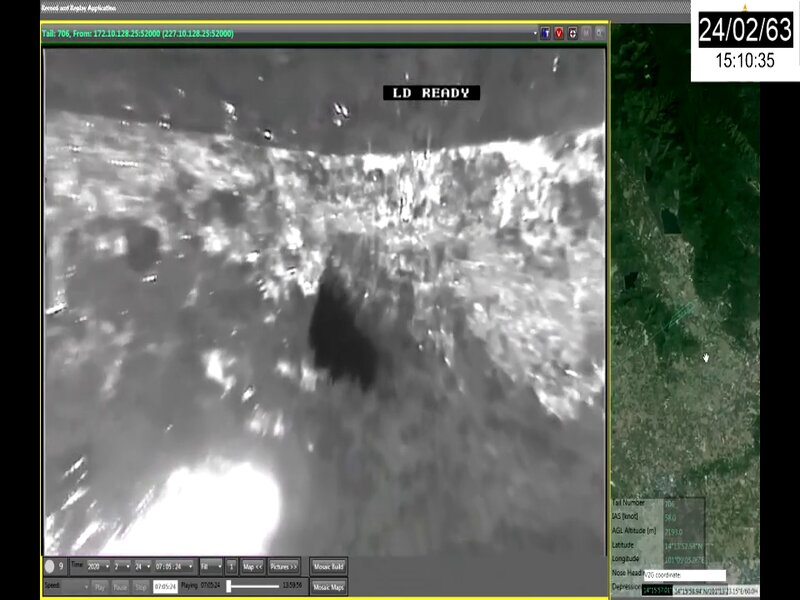Fire: (99, 456, 282, 555)
